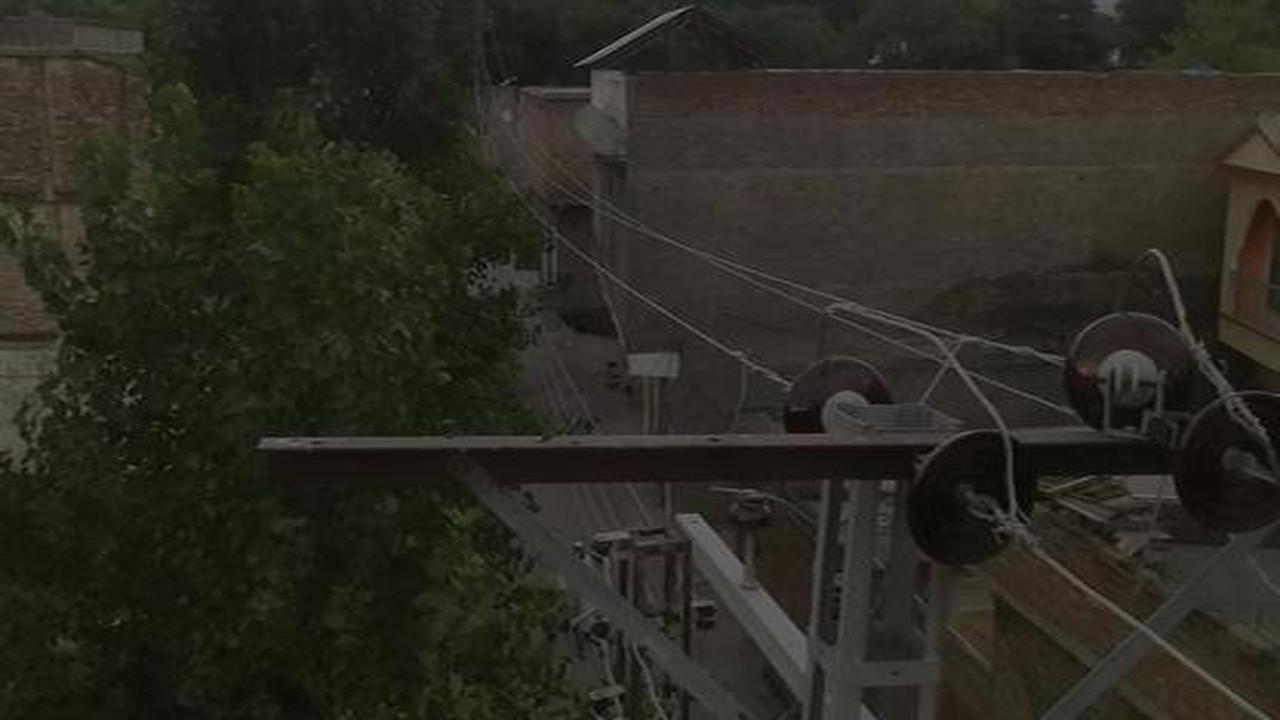insulator_disc: (903, 425, 1038, 573), (1062, 299, 1196, 425), (1177, 401, 1272, 532), (778, 355, 887, 428)
